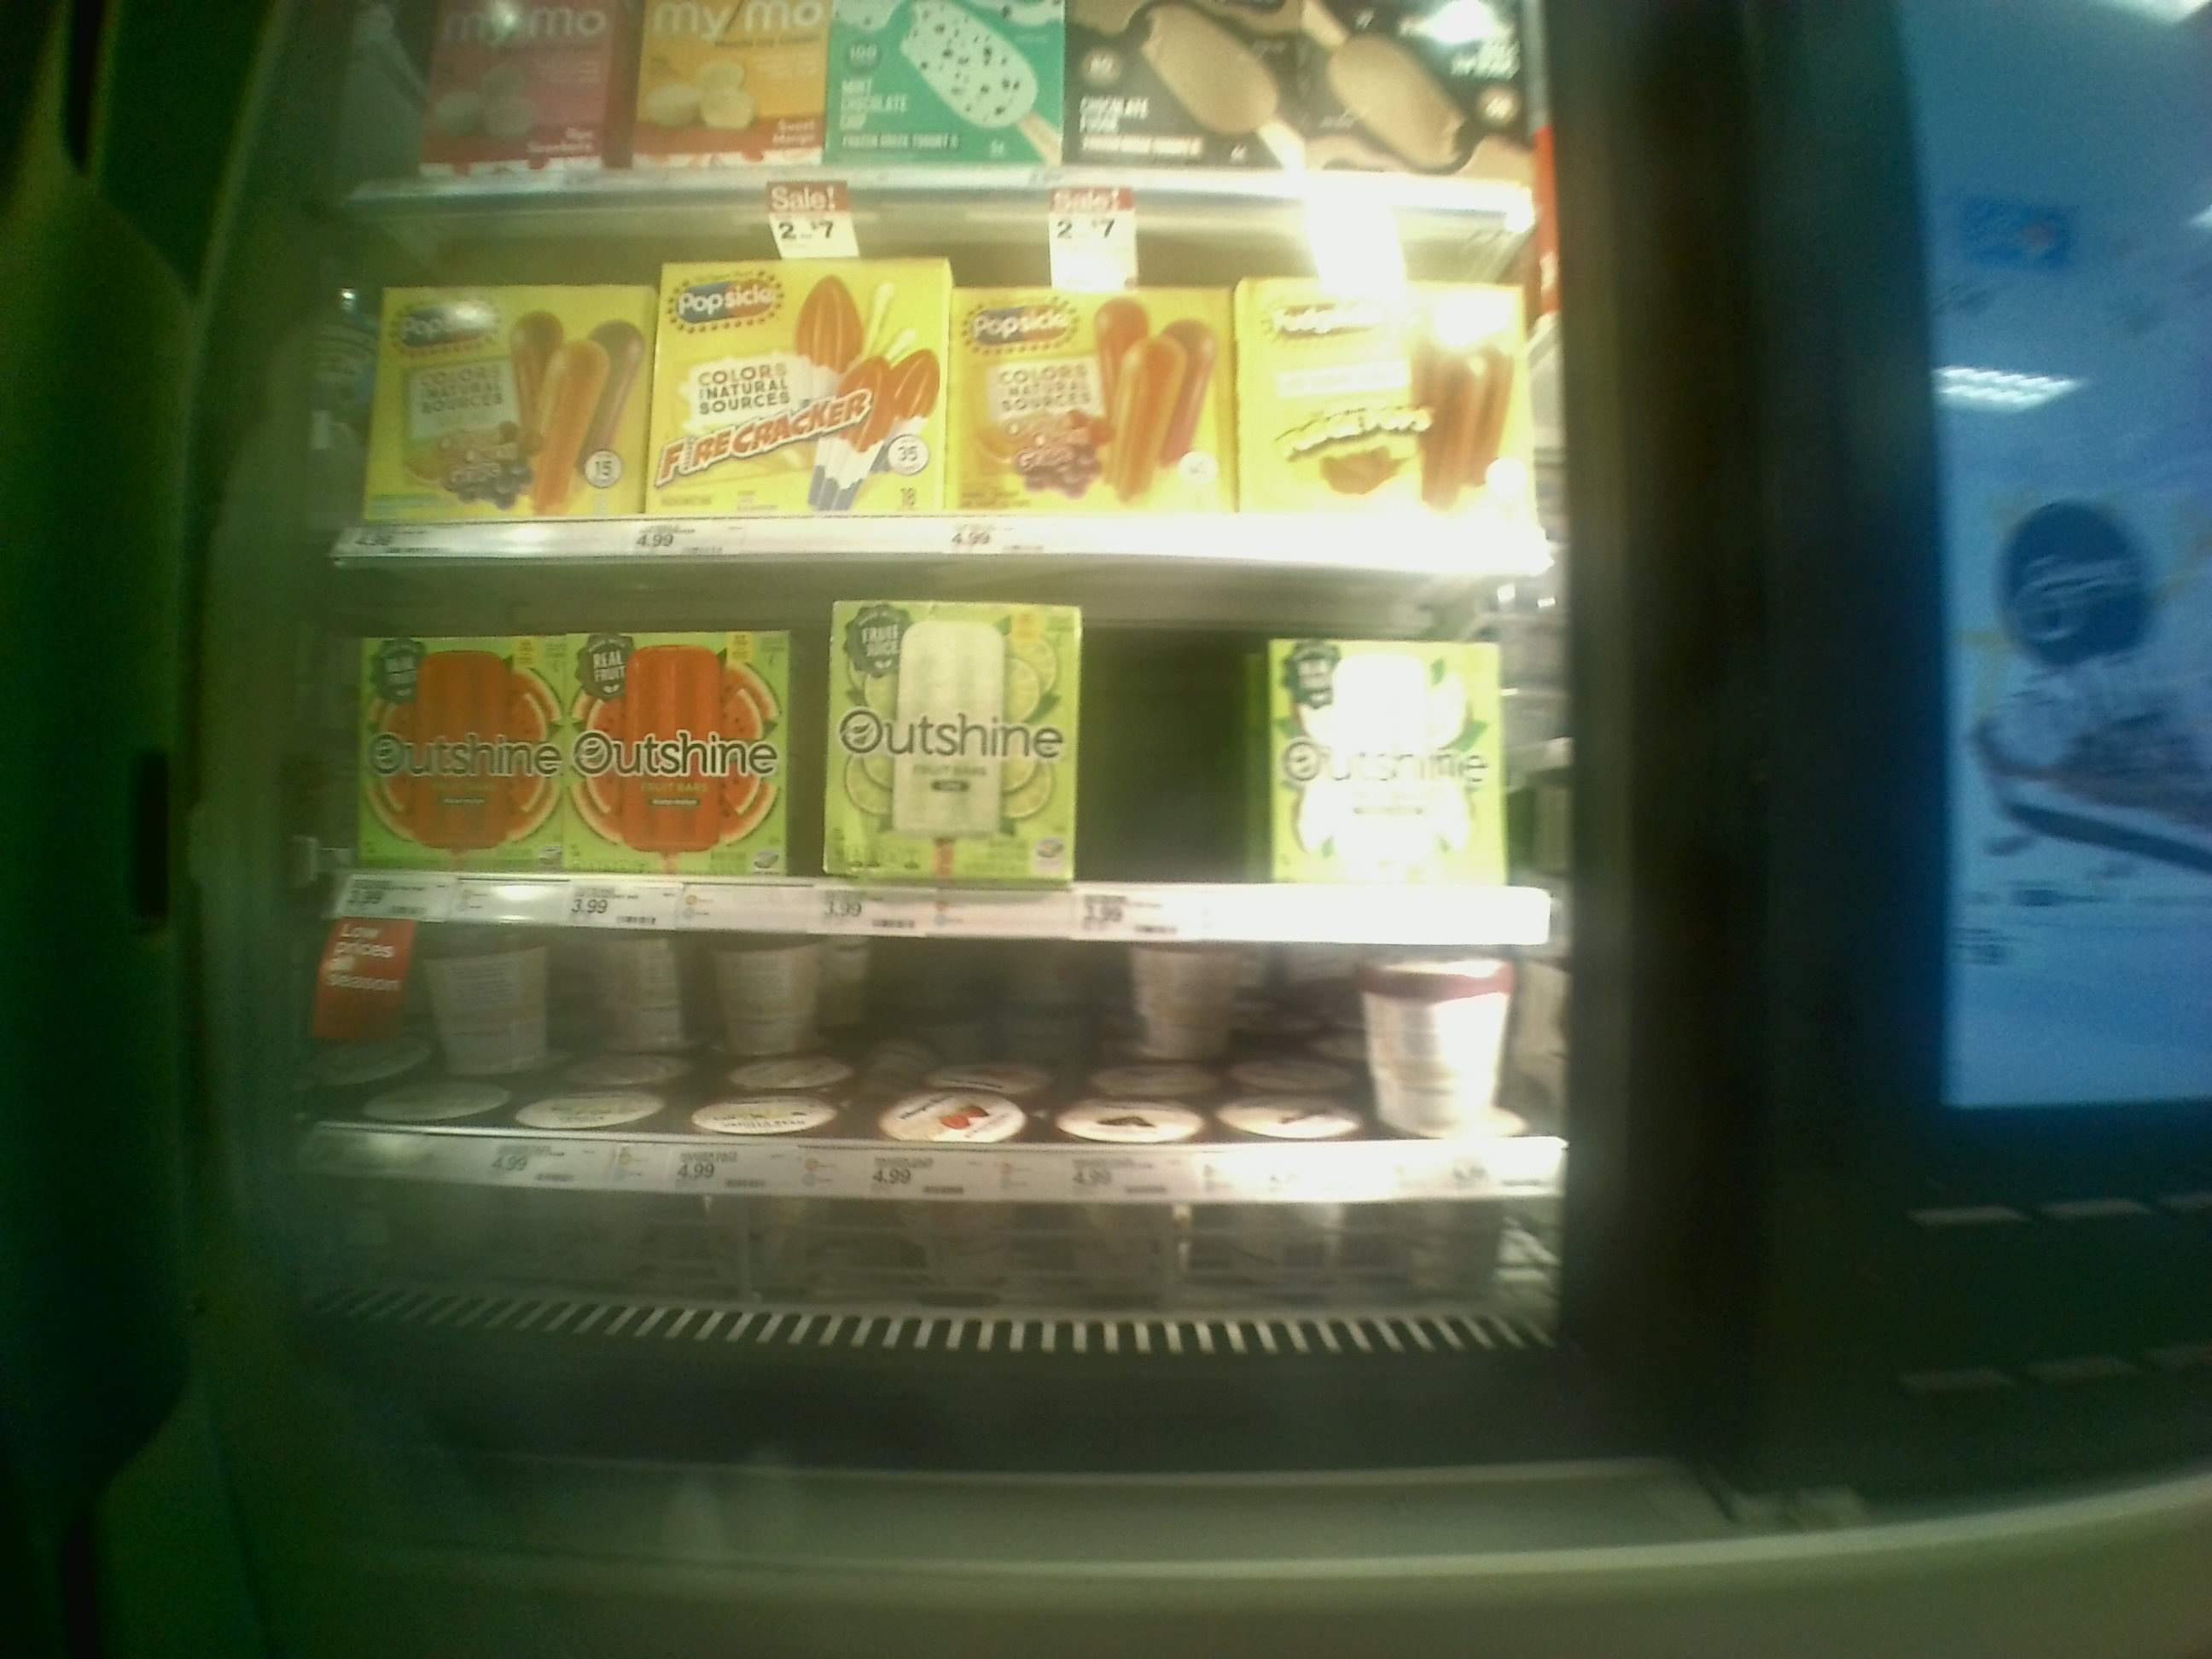shelf: (317, 934, 1547, 1349), (348, 561, 1578, 932), (340, 209, 1550, 570)
